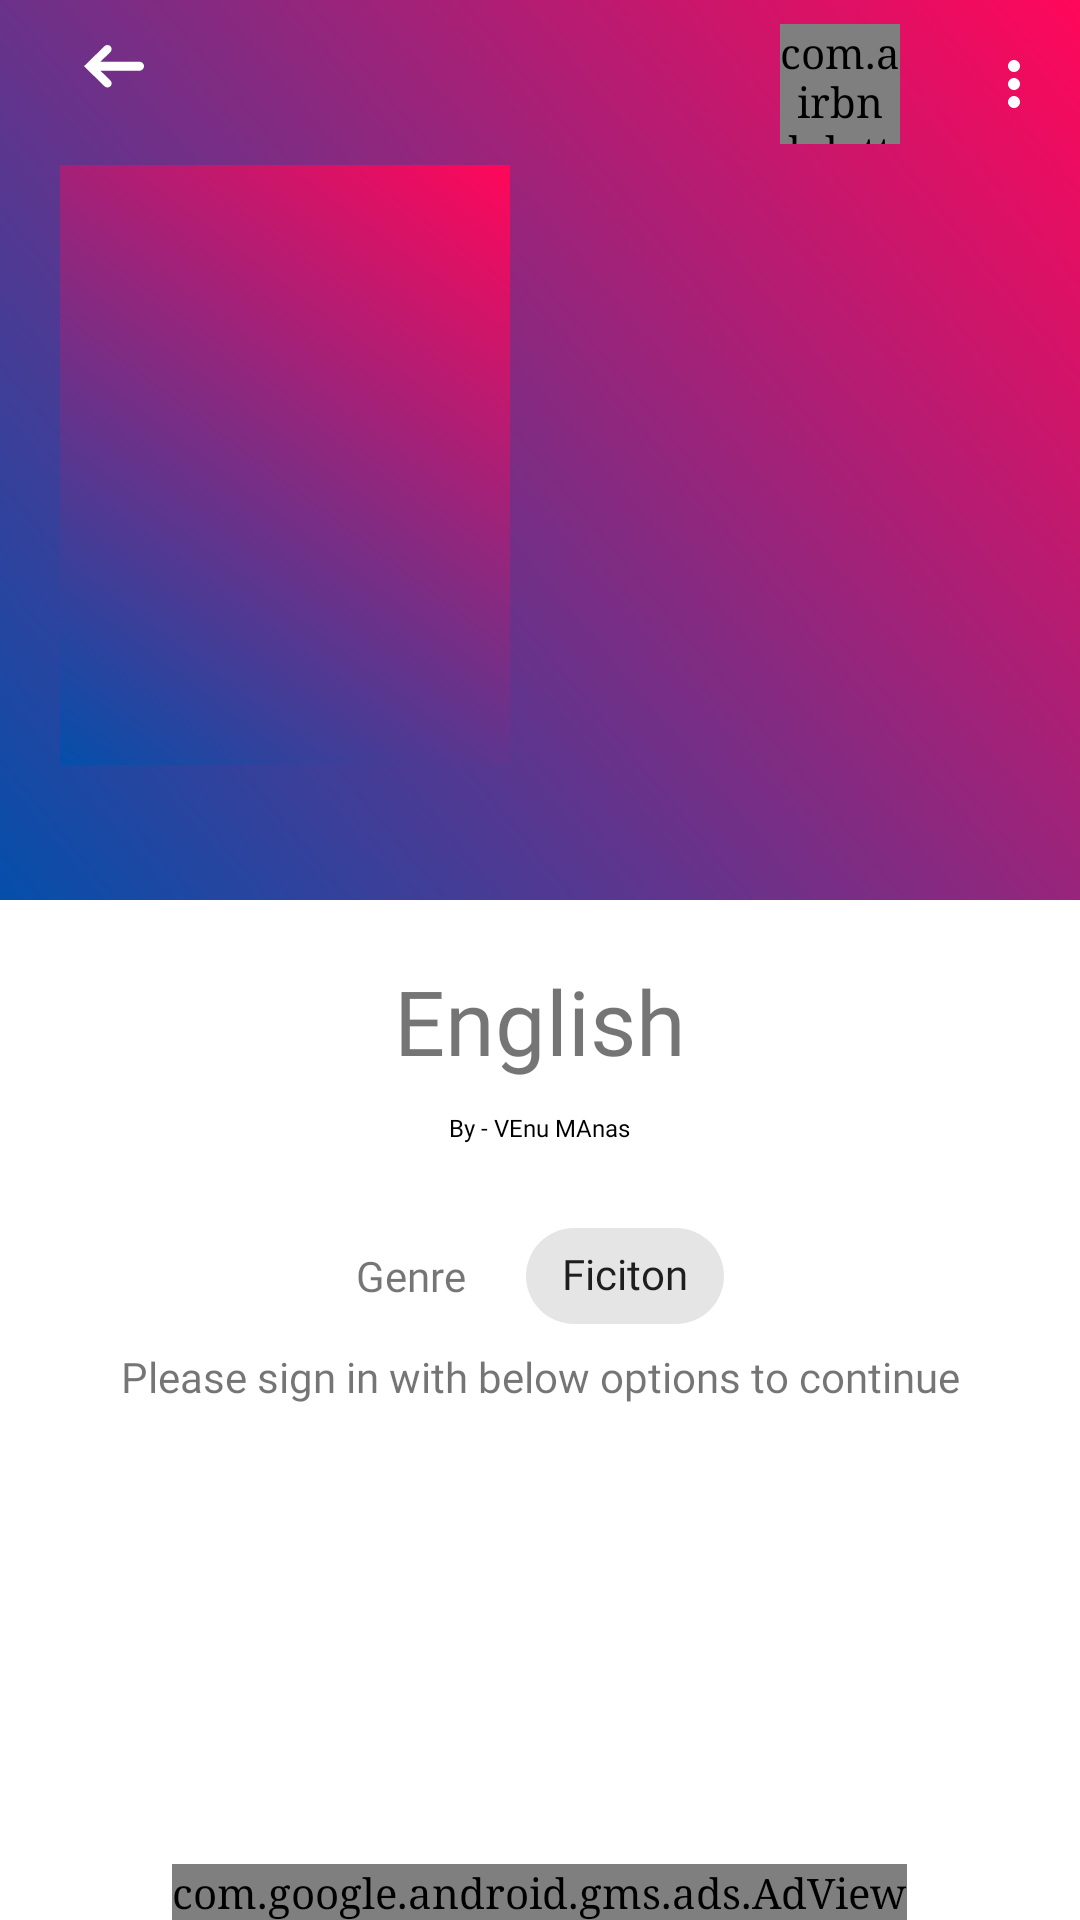

Locate icon controls on the screen. Image size 1080 × 1920, boxes as (x1, y1, x2, y2).
back arrow: (84, 45, 144, 88)
